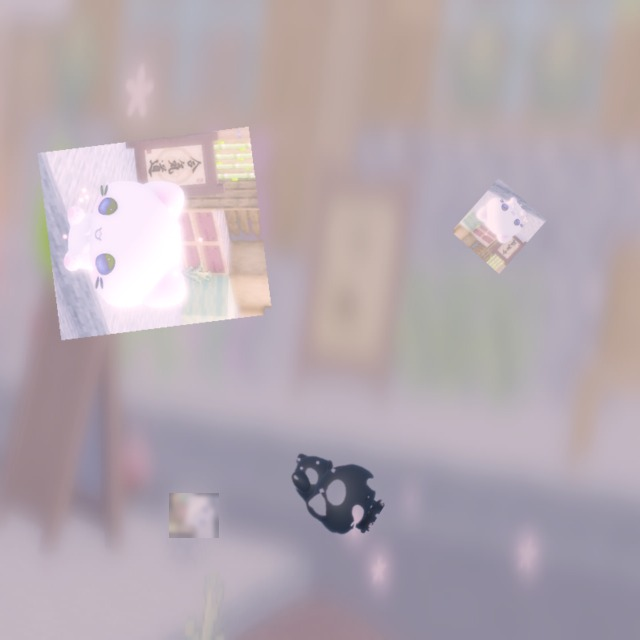urso_branco: (37, 126, 273, 341), (451, 178, 547, 274), (169, 493, 219, 538)
urso_preto: (265, 426, 400, 551)
